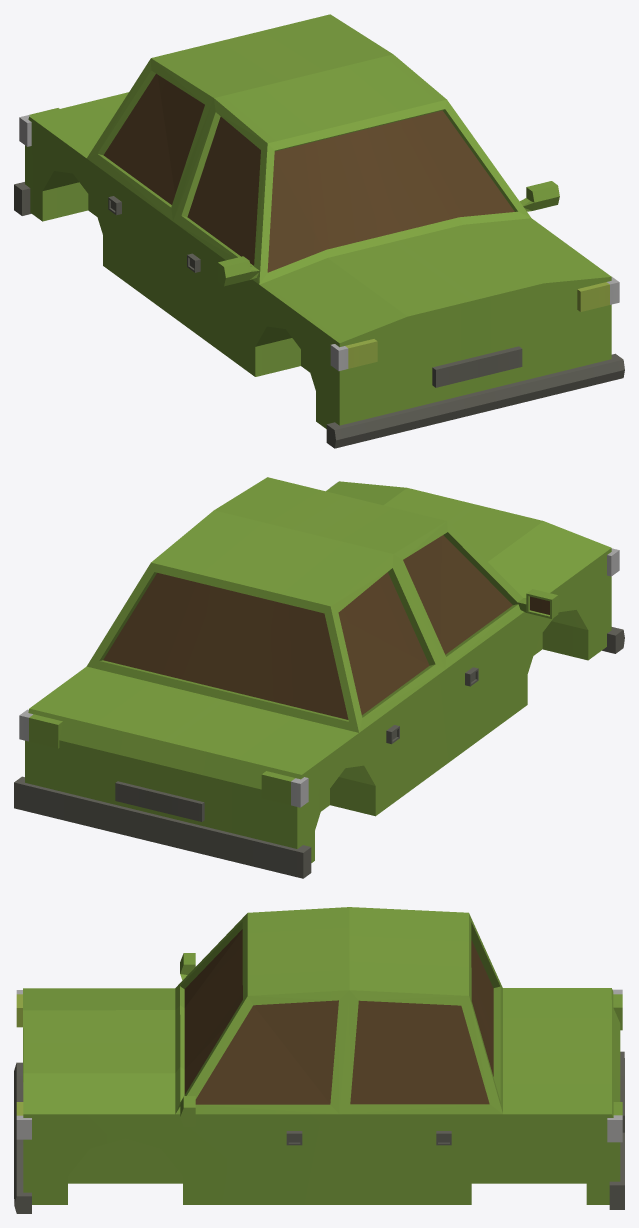
The model's file is Car_01.fbx.
3 renders of one model, top to bottom at view 1: azimuth 30°, elevation 25°; view 2: azimuth 150°, elevation 25°; view 3: azimuth 270°, elevation 25°, orthographic. The views are drawn at different scales.
Parts seen in each view (by area): view 1: Car_01; view 2: Car_01; view 3: Car_01.
Part boxes in pixels (box(x1,y1,x2,y2)): Car_01: box(14, 14, 624, 448); Car_01: box(14, 477, 624, 878); Car_01: box(14, 907, 624, 1213).
Size of the model in its own units: 1.96 by 1.17 by 3.26.
